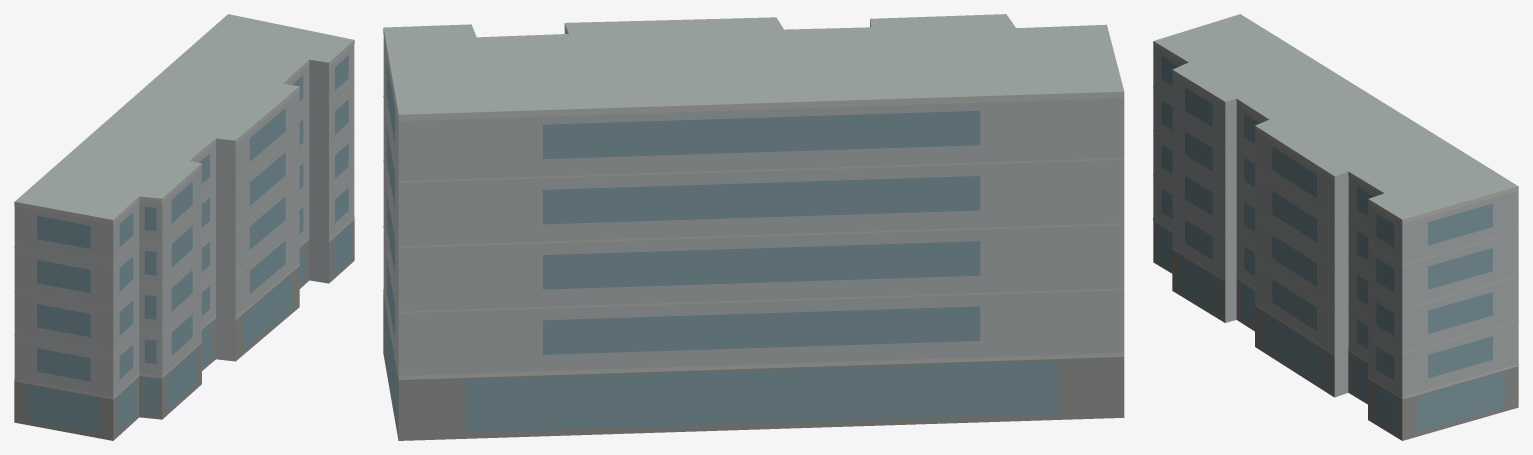
File: survey-upis-32723677.glb
3 renders of one model, left to right at view 1: azimuth 30°, elevation 25°; view 2: azimuth 150°, elevation 25°; view 3: azimuth 270°, elevation 25°, orthographic. The views are drawn at different scales.
Parts seen in each view (by area): view 1: survey-upis-32723677.tmp; view 2: survey-upis-32723677.tmp; view 3: survey-upis-32723677.tmp.
Part boxes in pixels (x1,y1,x2,y2): survey-upis-32723677.tmp: [14, 14, 354, 440]; survey-upis-32723677.tmp: [383, 14, 1124, 440]; survey-upis-32723677.tmp: [1153, 14, 1518, 440].
Size of the model in its own units: 24.55 by 12.3 by 18.44.
